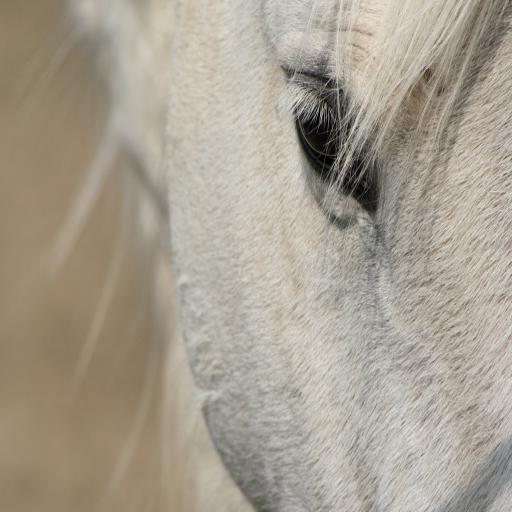horse: (12, 0, 512, 512)
